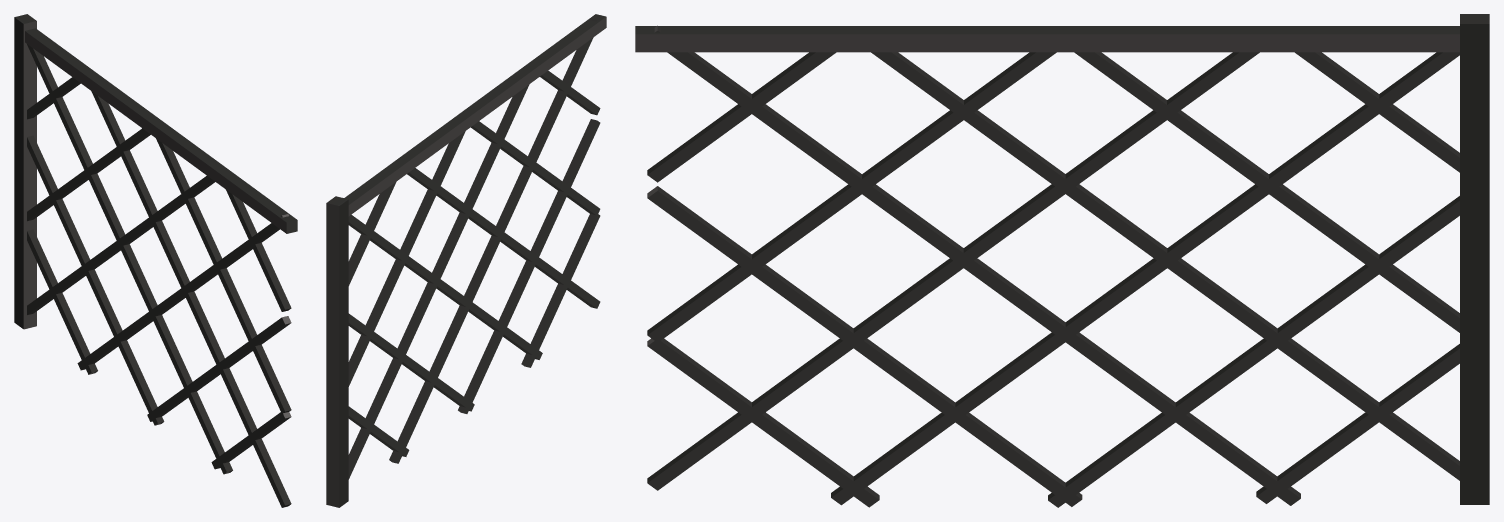
The model's file is Fence_half.fbx.
3 renders of one model, left to right at view 1: azimuth 30°, elevation 25°; view 2: azimuth 150°, elevation 25°; view 3: azimuth 270°, elevation 25°, orthographic. The views are drawn at different scales.
Parts seen in each view (by area): view 1: FenceHalf; view 2: FenceHalf; view 3: FenceHalf.
Boxes of the visible parts, x1=… form: FenceHalf: x1=14, y1=14, x2=297, y2=507; FenceHalf: x1=326, y1=14, x2=606, y2=507; FenceHalf: x1=635, y1=14, x2=1489, y2=507.
Bounding box in the file's own units: 6.98 × 157 × 250.
